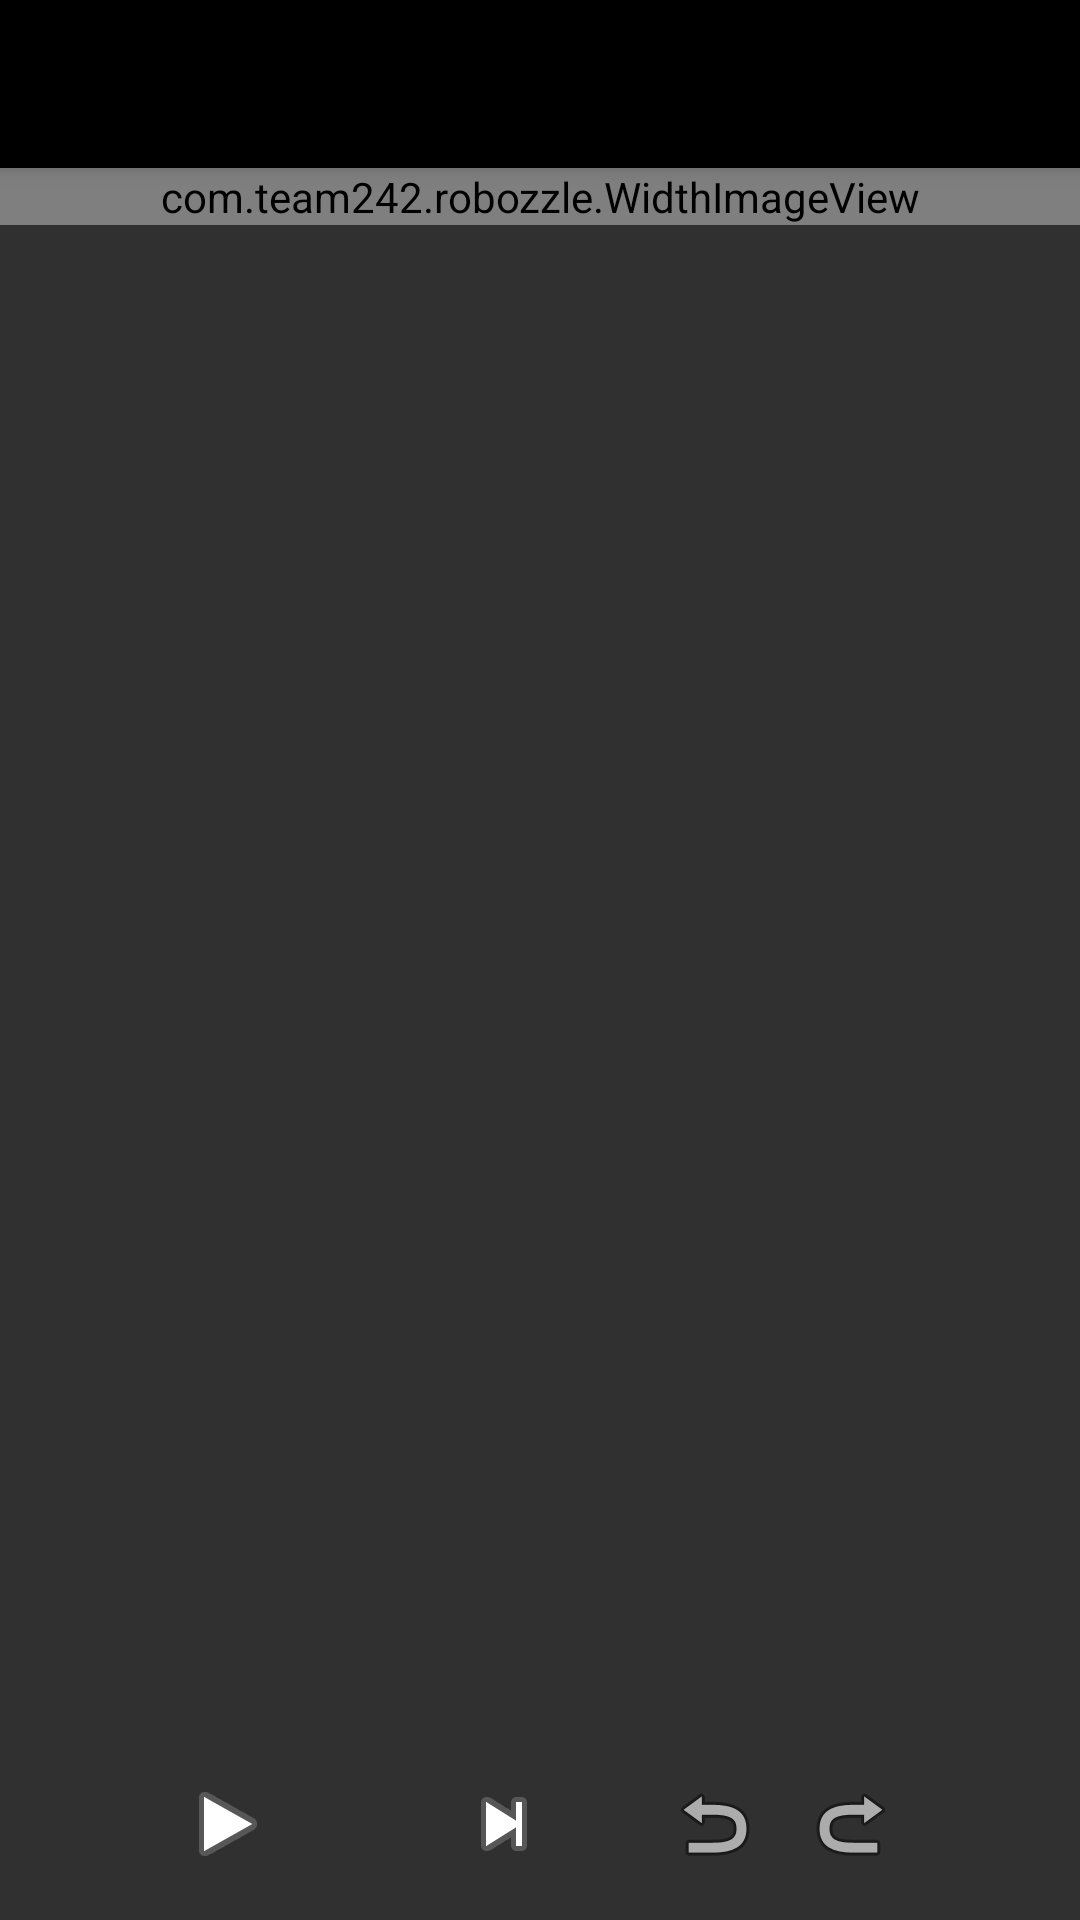

Icons on this 1080px×1920px Android screen, each with the point to tap as point (x, y):
next: point (504, 1824)
play: point (228, 1824)
